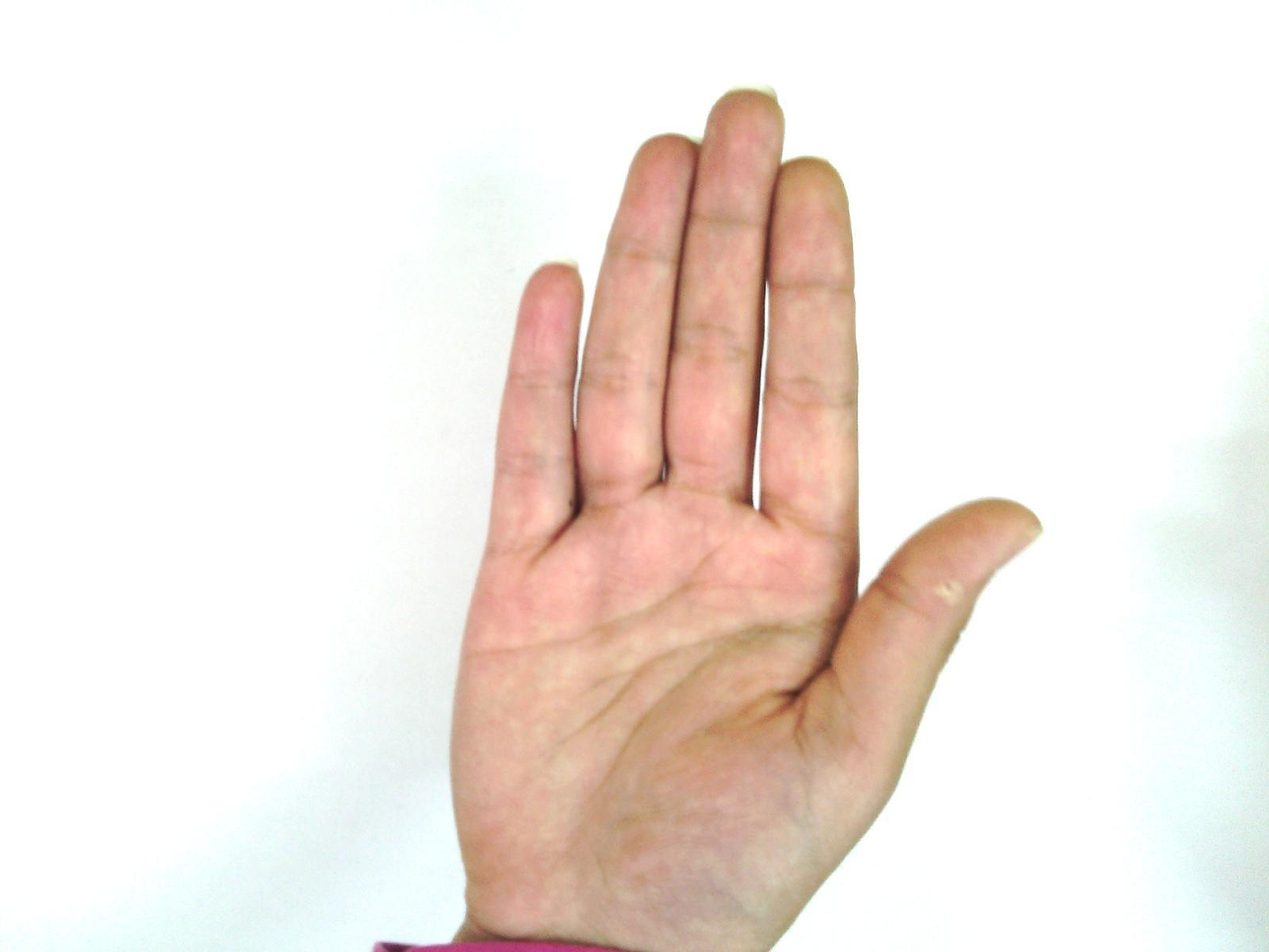open_palm: (441, 86, 1045, 950)
